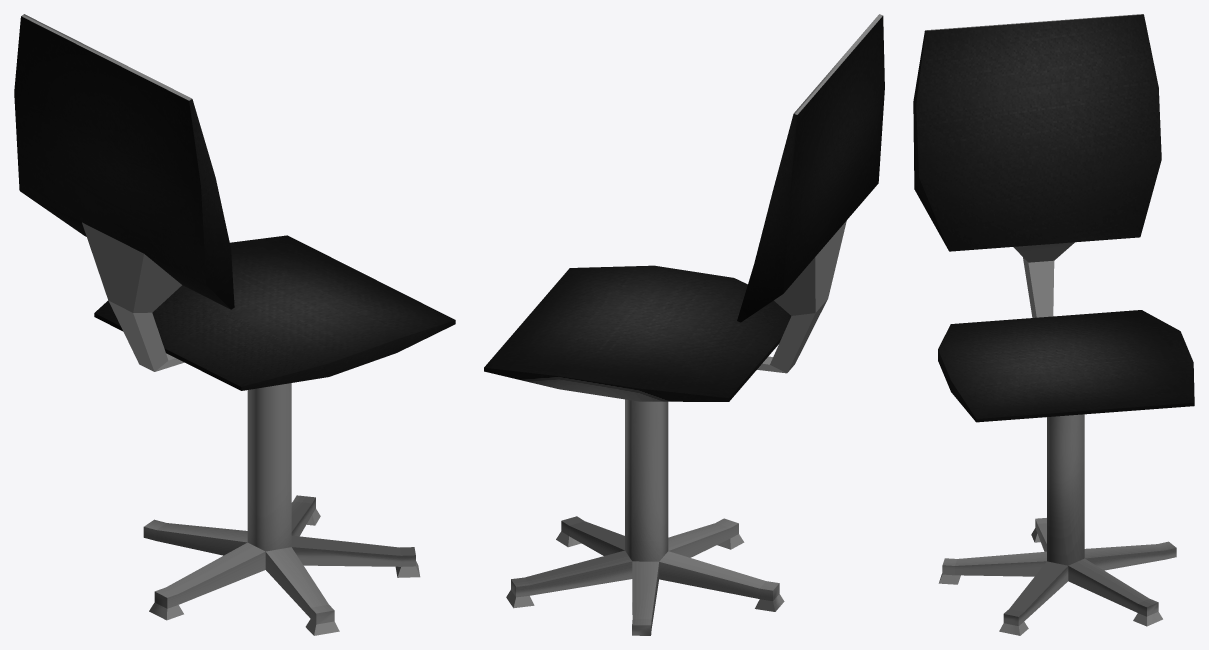
File: silla rodachines.FBX
3 renders of one model, left to right at view 1: azimuth 30°, elevation 25°; view 2: azimuth 150°, elevation 25°; view 3: azimuth 270°, elevation 25°, orthographic. The views are drawn at different scales.
Visible parts, largest first — view 1: silla rodachines001; view 2: silla rodachines001; view 3: silla rodachines001.
Boxes of the visible parts, x1,y1,x2,y2 form: silla rodachines001: (14, 14, 455, 635); silla rodachines001: (484, 14, 884, 635); silla rodachines001: (913, 14, 1194, 635).
Size of the model in its own units: 15.14 by 24.8 by 12.94.
